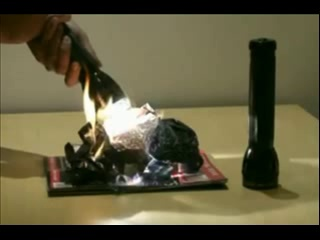fire: (80, 72, 110, 160)
